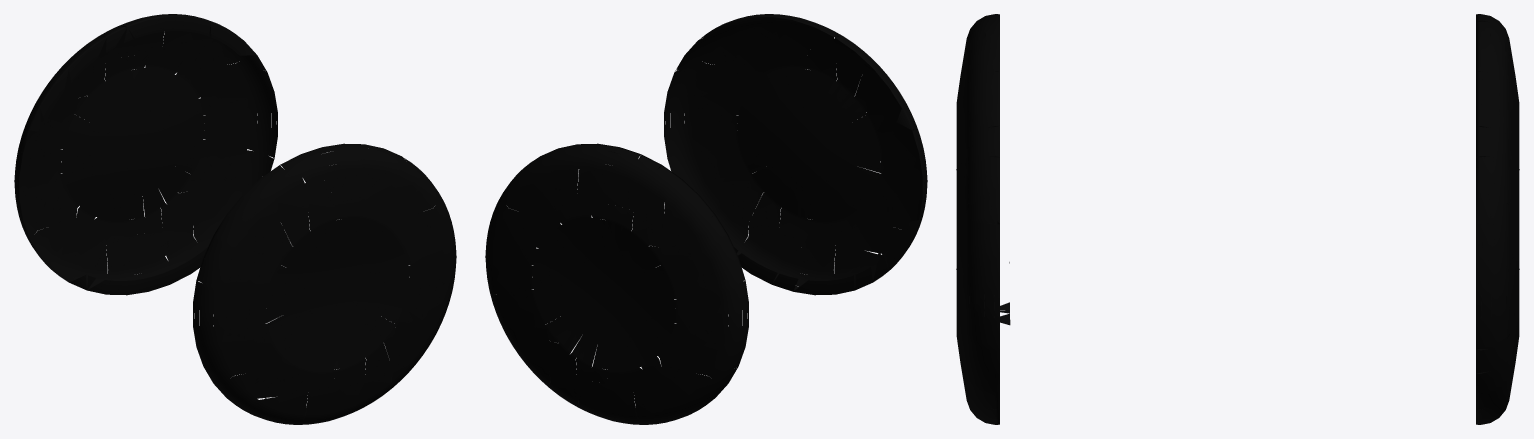
3 renders of one model, left to right at view 1: azimuth 30°, elevation 25°; view 2: azimuth 150°, elevation 25°; view 3: azimuth 270°, elevation 25°, orthographic. The views are drawn at different scales.
Bounding box in the file's own units: 0.1382 × 0.1382 × 0.1893.
